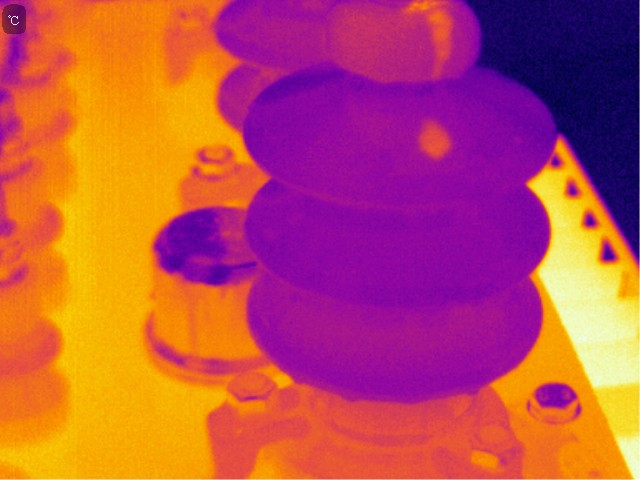Oil: (330, 2, 484, 84), (391, 1, 459, 85), (411, 111, 456, 166)
